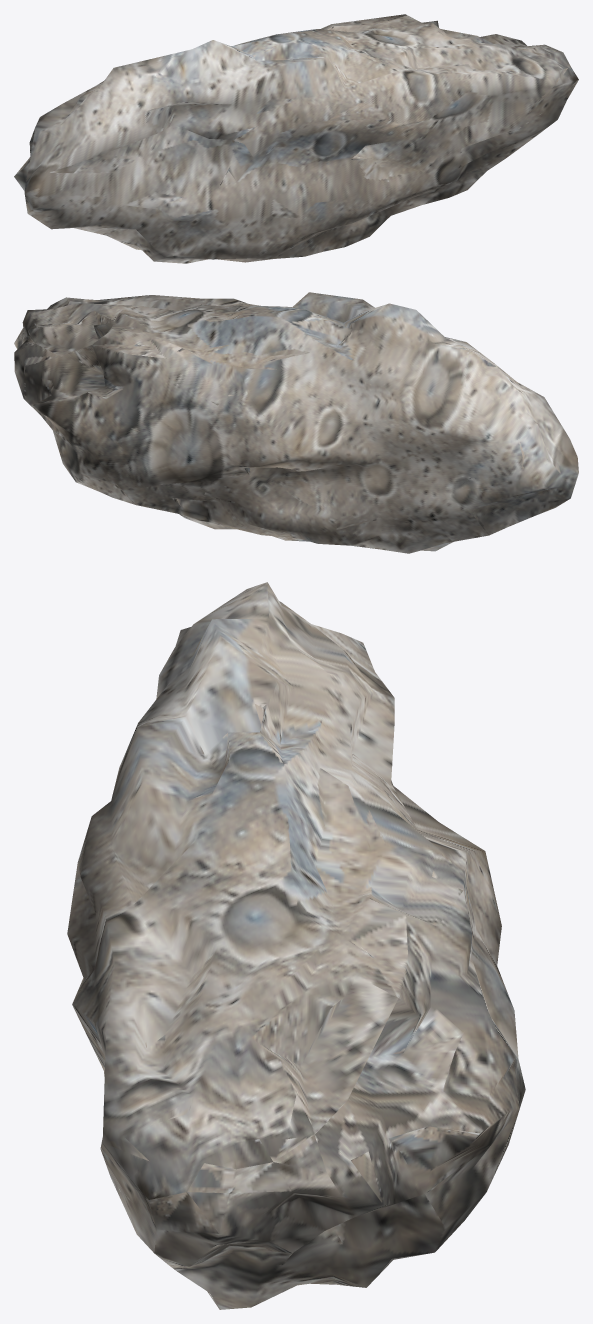
The model's file is asteroid_07.glb.
The picture shows the model from 3 angles, top to bottom: view 1: azimuth 30°, elevation 25°; view 2: azimuth 150°, elevation 25°; view 3: azimuth 270°, elevation 25°; orthographic projection. The views are drawn at different scales.
Parts seen in each view (by area): view 1: Mesh_0; view 2: Mesh_0; view 3: Mesh_0.
Part boxes in pixels (bbox=[...]): Mesh_0: bbox=[14, 14, 578, 263]; Mesh_0: bbox=[14, 292, 578, 553]; Mesh_0: bbox=[67, 582, 525, 1309].
Size of the model in its own units: 3.86 by 1.6 by 1.42.
1 material, 1 textured.
